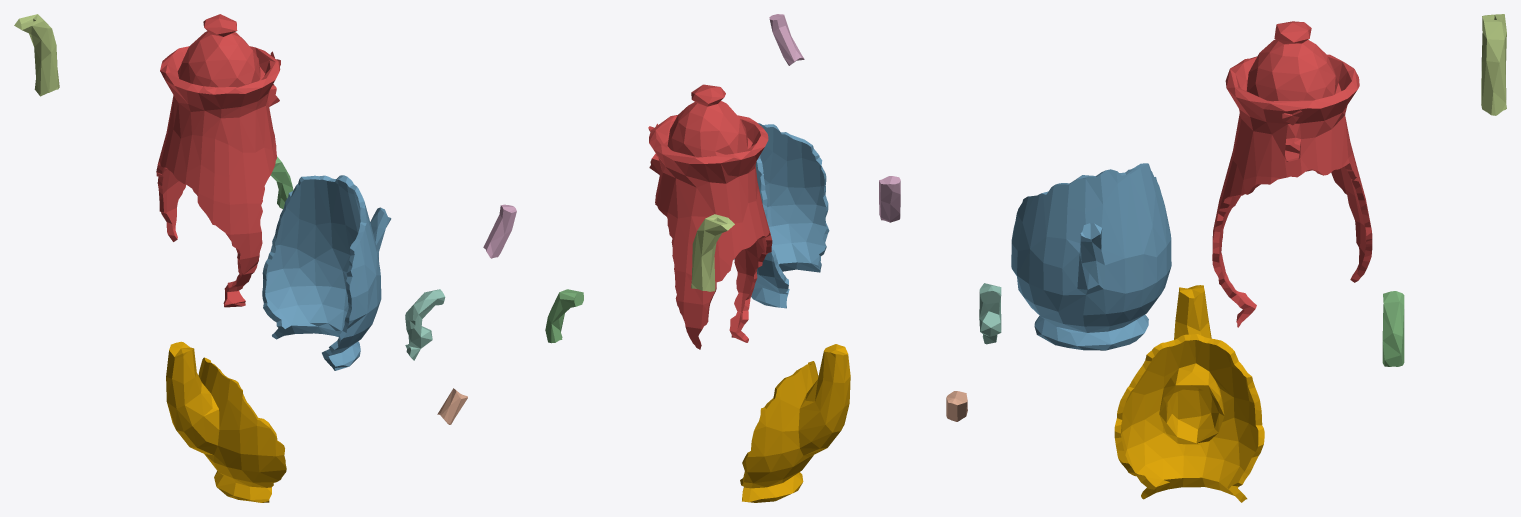
Rendered from mode_19_8pcs_transformed.glb.
3 renders of one model, left to right at view 1: azimuth 30°, elevation 25°; view 2: azimuth 150°, elevation 25°; view 3: azimuth 270°, elevation 25°, orthographic. The views are drawn at different scales.
Parts seen in each view (by area): view 1: piece_1.obj, piece_2.obj, piece_0.obj, piece_5.obj, piece_4.obj, piece_6.obj, piece_3.obj, piece_7.obj; view 2: piece_1.obj, piece_0.obj, piece_2.obj, piece_5.obj, piece_3.obj, piece_6.obj; view 3: piece_2.obj, piece_0.obj, piece_1.obj, piece_5.obj, piece_3.obj, piece_4.obj, piece_6.obj.
Part boxes in pixels (left/top/right/bottom): piece_1.obj: left=156, top=14, right=280, bottom=307; piece_2.obj: left=262, top=175, right=391, bottom=370; piece_0.obj: left=166, top=341, right=286, bottom=502; piece_5.obj: left=14, top=14, right=59, bottom=96; piece_4.obj: left=405, top=289, right=445, bottom=360; piece_6.obj: left=483, top=204, right=516, bottom=258; piece_3.obj: left=270, top=156, right=293, bottom=208; piece_7.obj: left=437, top=388, right=467, bottom=424; piece_1.obj: left=648, top=84, right=772, bottom=349; piece_0.obj: left=740, top=344, right=850, bottom=502; piece_2.obj: left=734, top=123, right=829, bottom=308; piece_5.obj: left=691, top=214, right=734, bottom=291; piece_3.obj: left=545, top=289, right=583, bottom=343; piece_6.obj: left=769, top=14, right=804, bottom=65; piece_2.obj: left=1011, top=163, right=1171, bottom=350; piece_0.obj: left=1114, top=285, right=1264, bottom=502; piece_1.obj: left=1212, top=21, right=1372, bottom=327; piece_5.obj: left=1481, top=14, right=1506, bottom=115; piece_3.obj: left=1382, top=291, right=1404, bottom=366; piece_4.obj: left=979, top=283, right=1001, bottom=344; piece_6.obj: left=879, top=176, right=900, bottom=222.
Bounding box in the file's own units: 0.8875 × 1.6 × 1.87.
